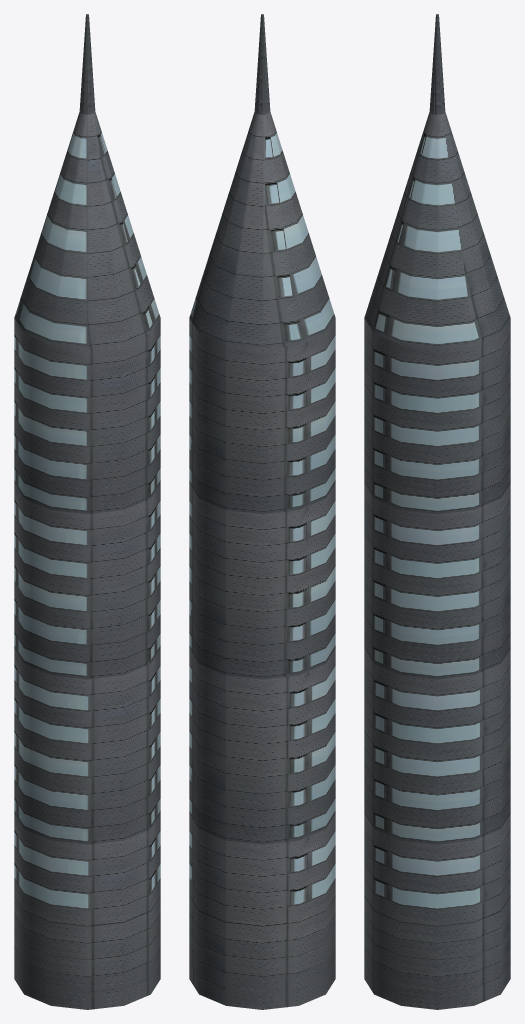
Rendered from skyscraper1.FBX.
3 renders of one model, left to right at view 1: azimuth 30°, elevation 25°; view 2: azimuth 150°, elevation 25°; view 3: azimuth 270°, elevation 25°, orthographic.
Parts seen in each view (by area): view 1: Cylinder001; view 2: Cylinder001; view 3: Cylinder001.
Boxes of the visible parts, box(x1,y1,x2,y2) form: Cylinder001: box(14, 14, 160, 1009); Cylinder001: box(189, 14, 335, 1009); Cylinder001: box(364, 14, 510, 1009).
Bounding box in the file's own units: 123 × 893 × 123.
